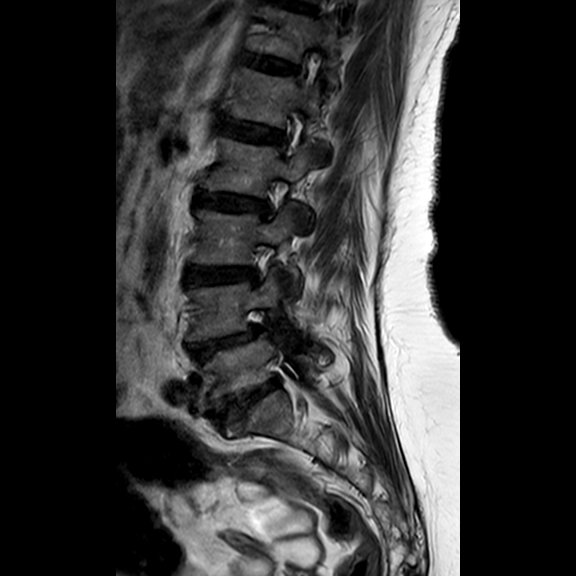LFS0: (250, 170, 296, 231), (266, 104, 309, 167), (234, 236, 278, 295)
